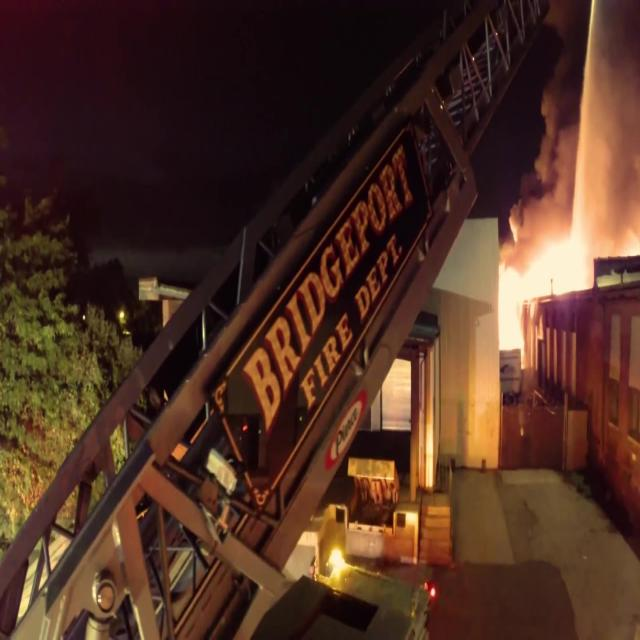Fire: (497, 229, 592, 353)
Smoke: (497, 0, 637, 350)
